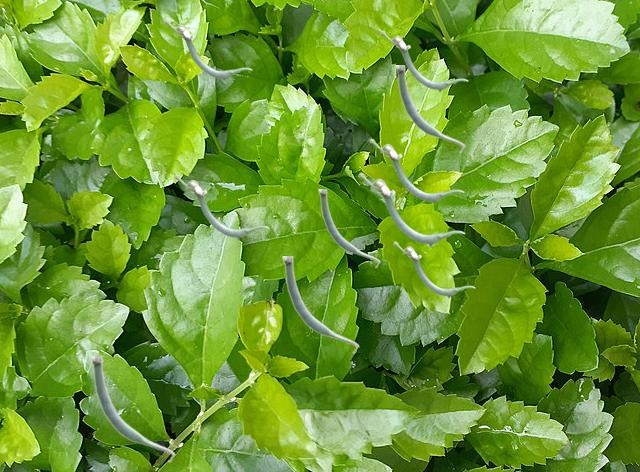french_bean: (90, 356, 174, 462), (358, 172, 464, 246), (282, 256, 358, 353), (369, 138, 463, 203), (174, 174, 268, 239), (395, 65, 464, 152), (380, 30, 467, 91), (164, 19, 251, 80), (318, 189, 379, 267), (393, 241, 474, 297)
